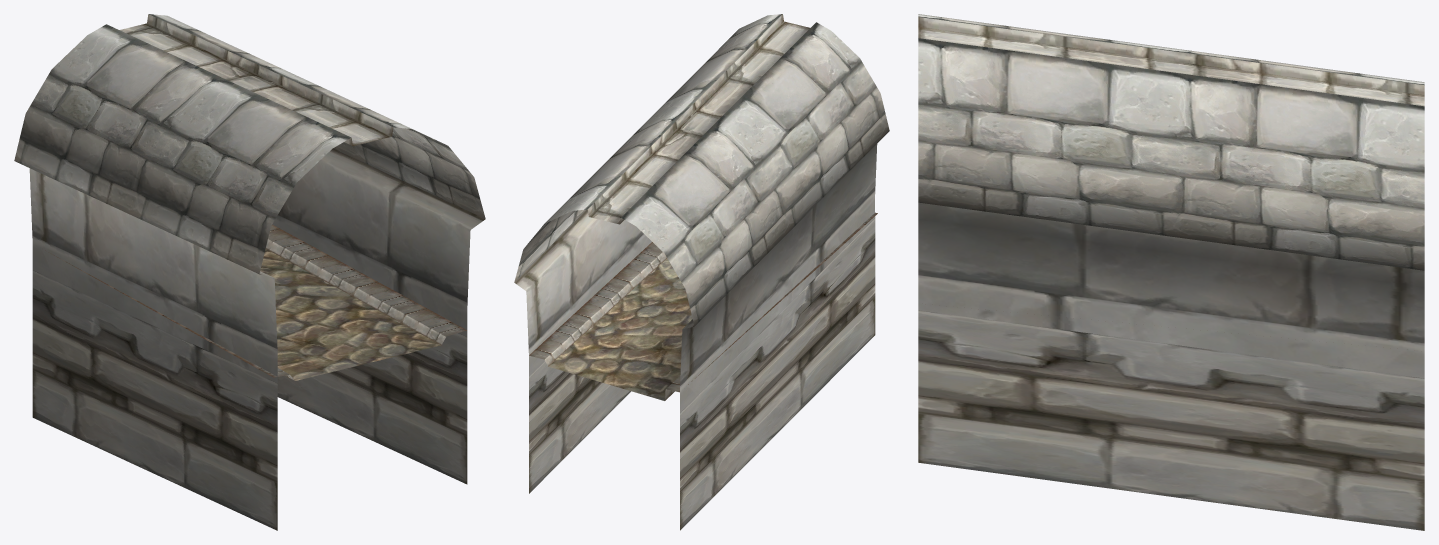
Rendered from stormwind_015.fbx.
3 renders of one model, left to right at view 1: azimuth 30°, elevation 25°; view 2: azimuth 150°, elevation 25°; view 3: azimuth 270°, elevation 25°, orthographic. The views are drawn at different scales.
Parts seen in each view (by area): view 1: stormwind_015_11, stormwind_015_4, stormwind_015_46, stormwind_015_5, stormwind_015_12; view 2: stormwind_015_11, stormwind_015_4, stormwind_015_46, stormwind_015_5, stormwind_015_12; view 3: stormwind_015_11, stormwind_015_4, stormwind_015_5.
Part boxes in pixels (box(x1,y1,x2,y2)): stormwind_015_11: box(29, 148, 485, 530); stormwind_015_4: box(14, 14, 485, 273); stormwind_015_46: box(260, 249, 440, 380); stormwind_015_5: box(119, 14, 393, 146); stormwind_015_12: box(45, 224, 466, 380); stormwind_015_11: box(514, 144, 877, 530); stormwind_015_4: box(514, 14, 889, 326); stormwind_015_46: box(548, 258, 692, 400); stormwind_015_5: box(587, 14, 809, 224); stormwind_015_12: box(529, 212, 877, 400); stormwind_015_11: box(918, 202, 1424, 530); stormwind_015_4: box(918, 14, 1424, 270); stormwind_015_5: box(918, 17, 1424, 106).
Size of the model in its own units: 10.07 by 18.76 by 18.89.
